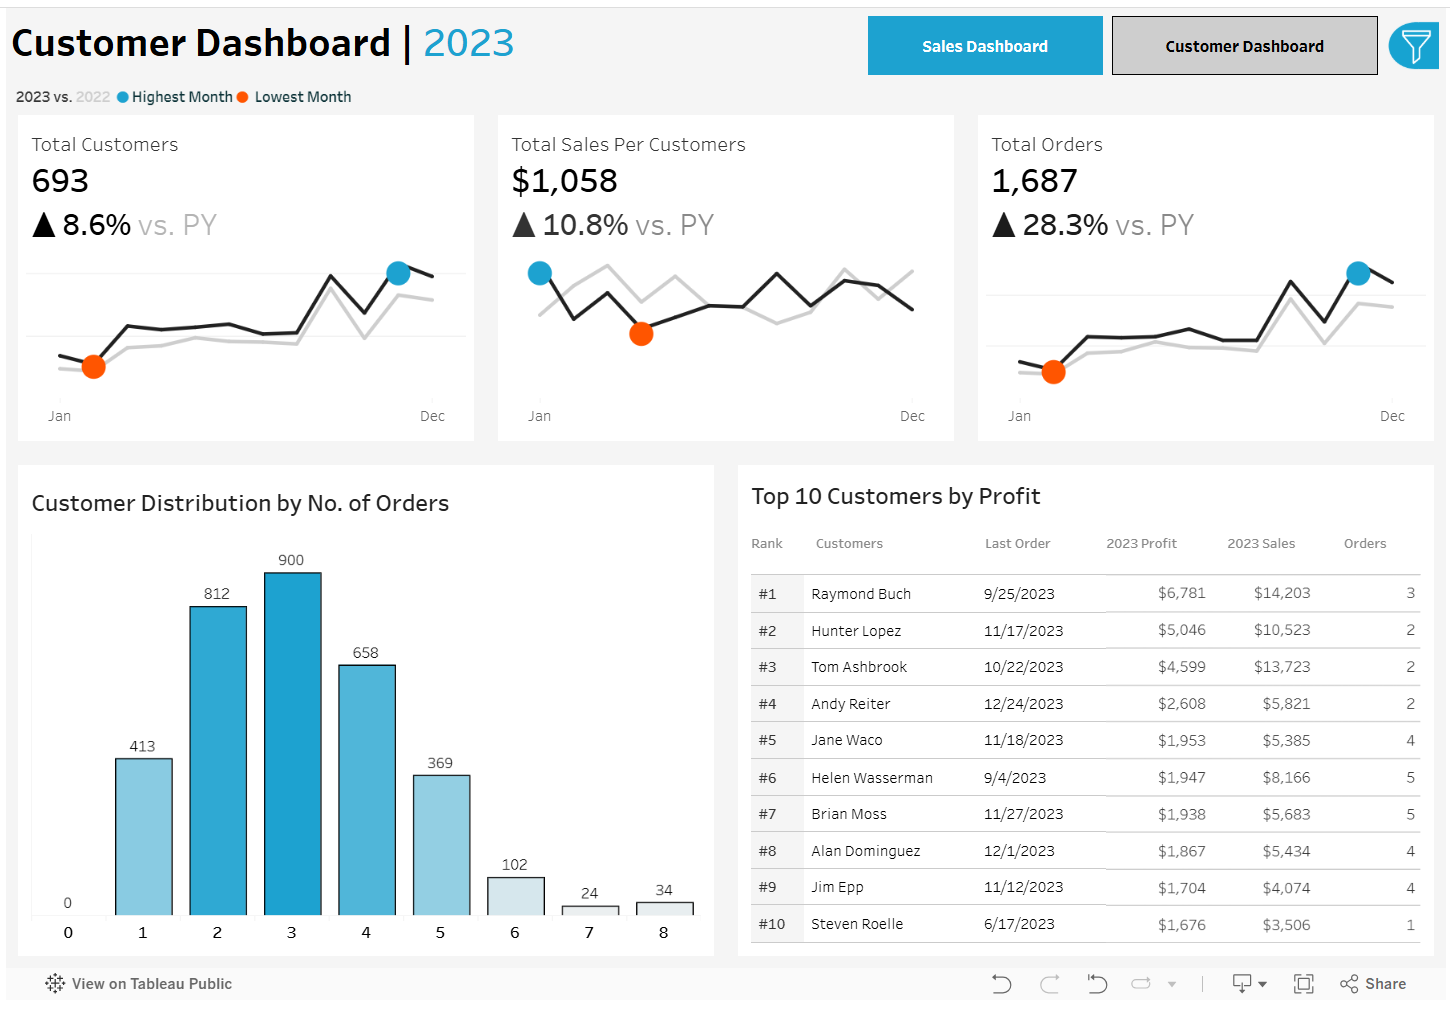

This screenshot's page, from the dashboard's own definition file:
{"tool":"tableau","page":{"name":"Customer Dashboard","canvas":[1200,800],"ordinal":0},"visuals":[{"type":"text","box":[0,0,1200,57]},{"type":"dashboard-object","box":[714,3,204,57]},{"type":"dashboard-object","box":[918,3,229,57]},{"type":"dashboard-object","box":[1147,3,51,57]},{"type":"text","box":[970,10,208,159]},{"type":"worksheet","title":"Legend KPI","mark":"Automatic","box":[0,57,1200,32]},{"type":"worksheet","title":"KPI Customers","mark":"Line","rows":["Calculation_1302390959378439"],"cols":["Order Date"],"box":[0,89,400,282]},{"type":"worksheet","title":"KPI Sales Per Customers","mark":"Line","rows":["Calculation_1302390959489032"],"cols":["Order Date"],"box":[400,89,400,282]},{"type":"worksheet","title":"KPI Orders","mark":"Line","rows":["Calculation_1302390966751263"],"cols":["Order Date"],"box":[800,89,400,282]},{"type":"parameter","param":"[Parameters].[Parameter 1]","box":[970,169,208,89]},{"type":"blank","box":[970,258,208,32]},{"type":"text","box":[970,290,208,39]},{"type":"filter","title":"KPI Customers","param":"[federated.0lyf21q1wr2ens1aoogcu0liwwes].[none:Category:nk]","box":[970,329,208,70]},{"type":"text","box":[17,388,566,46]},{"type":"text","box":[617,388,566,47]},{"type":"filter","title":"KPI Customers","param":"[federated.0lyf21q1wr2ens1aoogcu0liwwes].[none:Sub-Category:nk]","box":[970,399,208,70]},{"type":"worksheet","title":"Customer Distribution","mark":"Automatic","rows":["CY Profit (copy)_1302390956445696"],"cols":["Calculation_1302390967128097"],"box":[17,434,566,349]},{"type":"text","box":[617,435,54,45]},{"type":"text","box":[671,435,141,45]},{"type":"text","box":[812,435,101,45]},{"type":"text","box":[913,435,101,45]},{"type":"text","box":[1014,435,97,45]},{"type":"text","box":[1111,435,72,45]},{"type":"blank","box":[970,469,208,36]},{"type":"worksheet","title":"Top Customers","mark":"Automatic","rows":["Calculation_1302391095906351","Customer Name","Order Date"],"box":[617,480,566,303]},{"type":"text","box":[970,505,208,39]},{"type":"filter","title":"KPI Customers","param":"[federated.0lyf21q1wr2ens1aoogcu0liwwes].[none:Region:nk]","box":[970,544,208,70]},{"type":"filter","title":"KPI Customers","param":"[federated.0lyf21q1wr2ens1aoogcu0liwwes].[none:State:nk]","box":[970,614,208,70]},{"type":"filter","title":"KPI Customers","param":"[federated.0lyf21q1wr2ens1aoogcu0liwwes].[none:City:nk]","box":[970,684,208,70]}]}

Visuals, with their boxes on the page's 1200x800 design canvas (x1, y1, x2, y2). These are canvas units, not pixel positions in the 1450x1017 screenshot, which may show the page scaled, cropped or inside an application window:
text: <bbox>0, 0, 1200, 57</bbox>
dashboard-object: <bbox>714, 3, 918, 60</bbox>
dashboard-object: <bbox>918, 3, 1147, 60</bbox>
dashboard-object: <bbox>1147, 3, 1198, 60</bbox>
text: <bbox>970, 10, 1178, 169</bbox>
"Legend KPI" worksheet: <bbox>0, 57, 1200, 89</bbox>
"KPI Customers" worksheet (Line marks): <bbox>0, 89, 400, 371</bbox>
"KPI Sales Per Customers" worksheet (Line marks): <bbox>400, 89, 800, 371</bbox>
"KPI Orders" worksheet (Line marks): <bbox>800, 89, 1200, 371</bbox>
parameter: <bbox>970, 169, 1178, 258</bbox>
blank: <bbox>970, 258, 1178, 290</bbox>
text: <bbox>970, 290, 1178, 329</bbox>
"KPI Customers" filter: <bbox>970, 329, 1178, 399</bbox>
text: <bbox>17, 388, 583, 434</bbox>
text: <bbox>617, 388, 1183, 435</bbox>
"KPI Customers" filter: <bbox>970, 399, 1178, 469</bbox>
"Customer Distribution" worksheet: <bbox>17, 434, 583, 783</bbox>
text: <bbox>617, 435, 671, 480</bbox>
text: <bbox>671, 435, 812, 480</bbox>
text: <bbox>812, 435, 913, 480</bbox>
text: <bbox>913, 435, 1014, 480</bbox>
text: <bbox>1014, 435, 1111, 480</bbox>
text: <bbox>1111, 435, 1183, 480</bbox>
blank: <bbox>970, 469, 1178, 505</bbox>
"Top Customers" worksheet: <bbox>617, 480, 1183, 783</bbox>
text: <bbox>970, 505, 1178, 544</bbox>
"KPI Customers" filter: <bbox>970, 544, 1178, 614</bbox>
"KPI Customers" filter: <bbox>970, 614, 1178, 684</bbox>
"KPI Customers" filter: <bbox>970, 684, 1178, 754</bbox>
